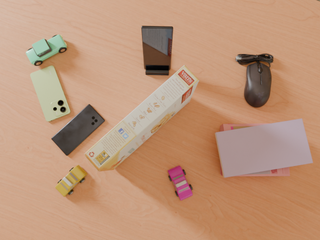book: (215, 119, 313, 177)
box: (84, 65, 199, 171)
mouse: (236, 54, 273, 107)
phone: (51, 104, 105, 156), (30, 66, 71, 121), (141, 26, 173, 70)
toy_car: (26, 35, 67, 66), (55, 165, 87, 197), (168, 166, 193, 200)
